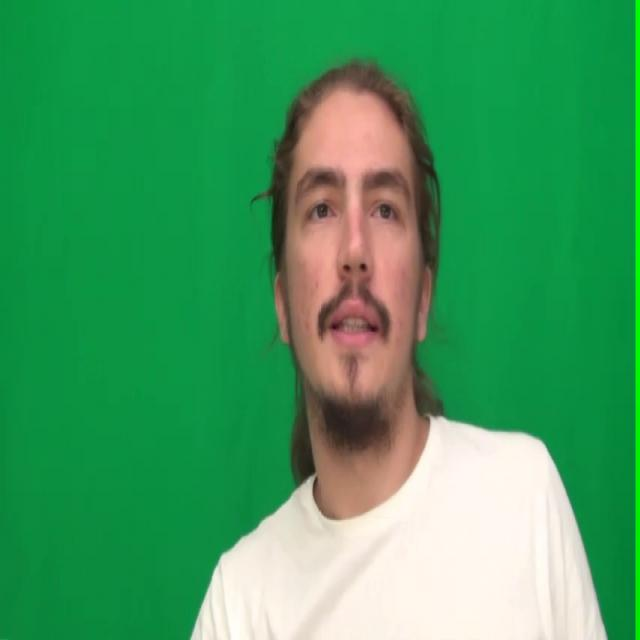Engaged: (283, 88, 419, 413)
